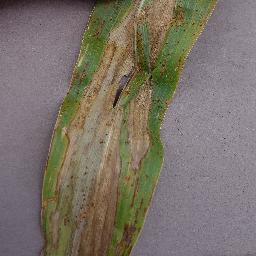Corn_Blight: (36, 109, 168, 256), (56, 1, 220, 108)
